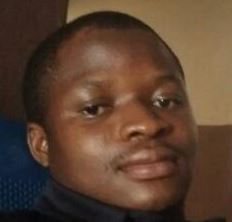without_facemask: (75, 122, 207, 197)
